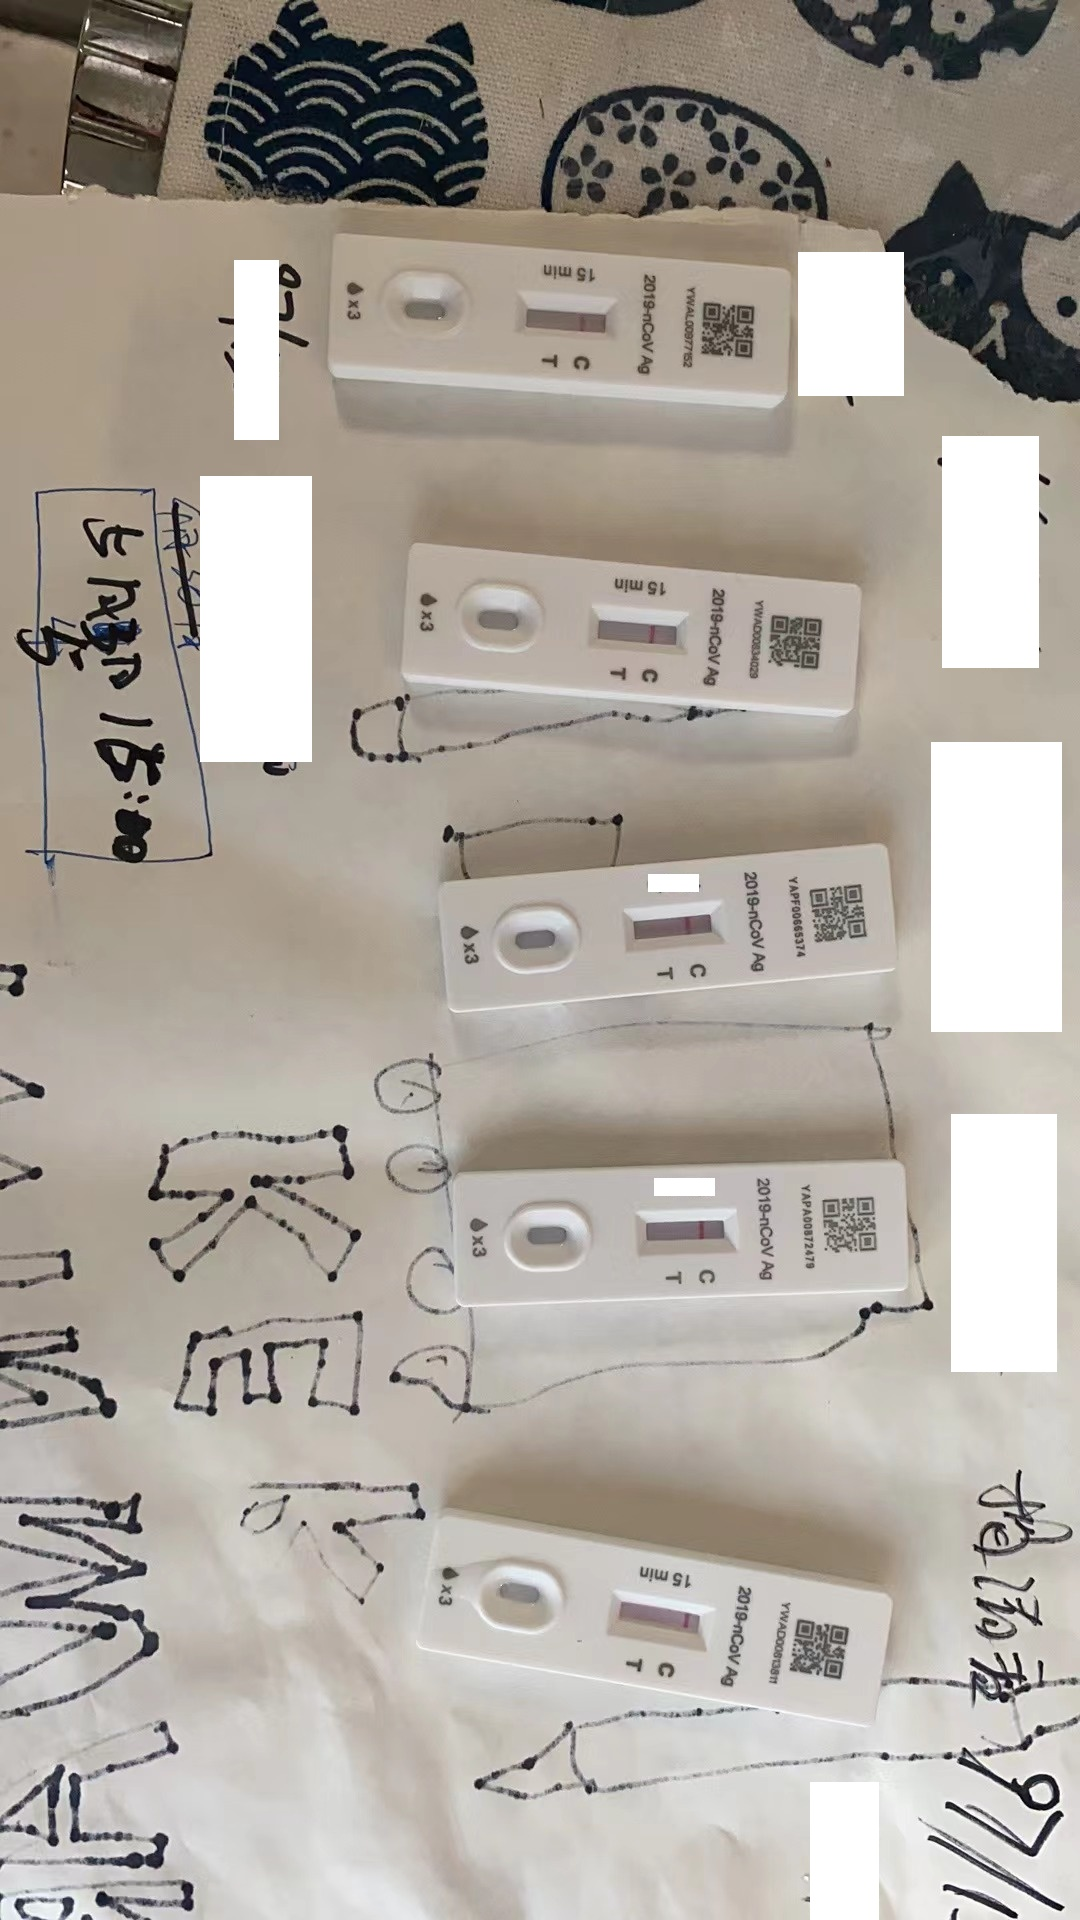negative: (605, 1586, 715, 1648), (625, 891, 729, 952), (588, 611, 687, 655), (516, 295, 621, 335), (640, 1218, 735, 1247)
